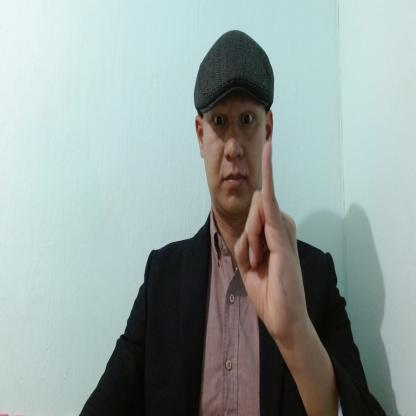I: (234, 144, 307, 340)
